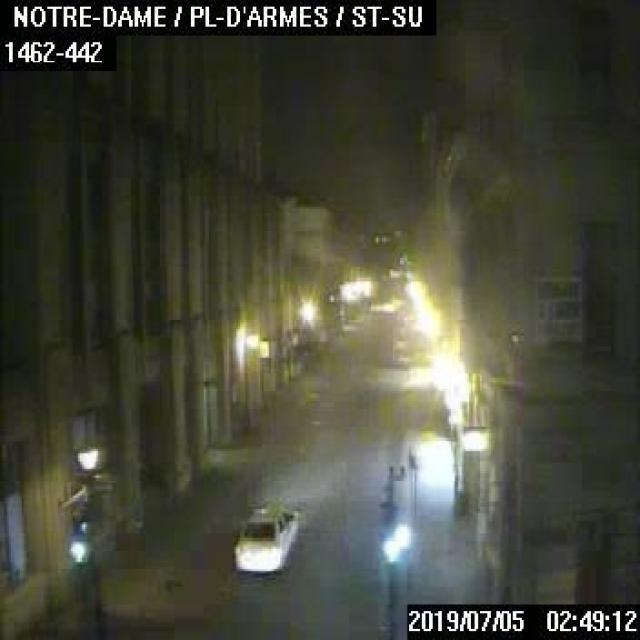vehicle: (229, 502, 295, 571)
